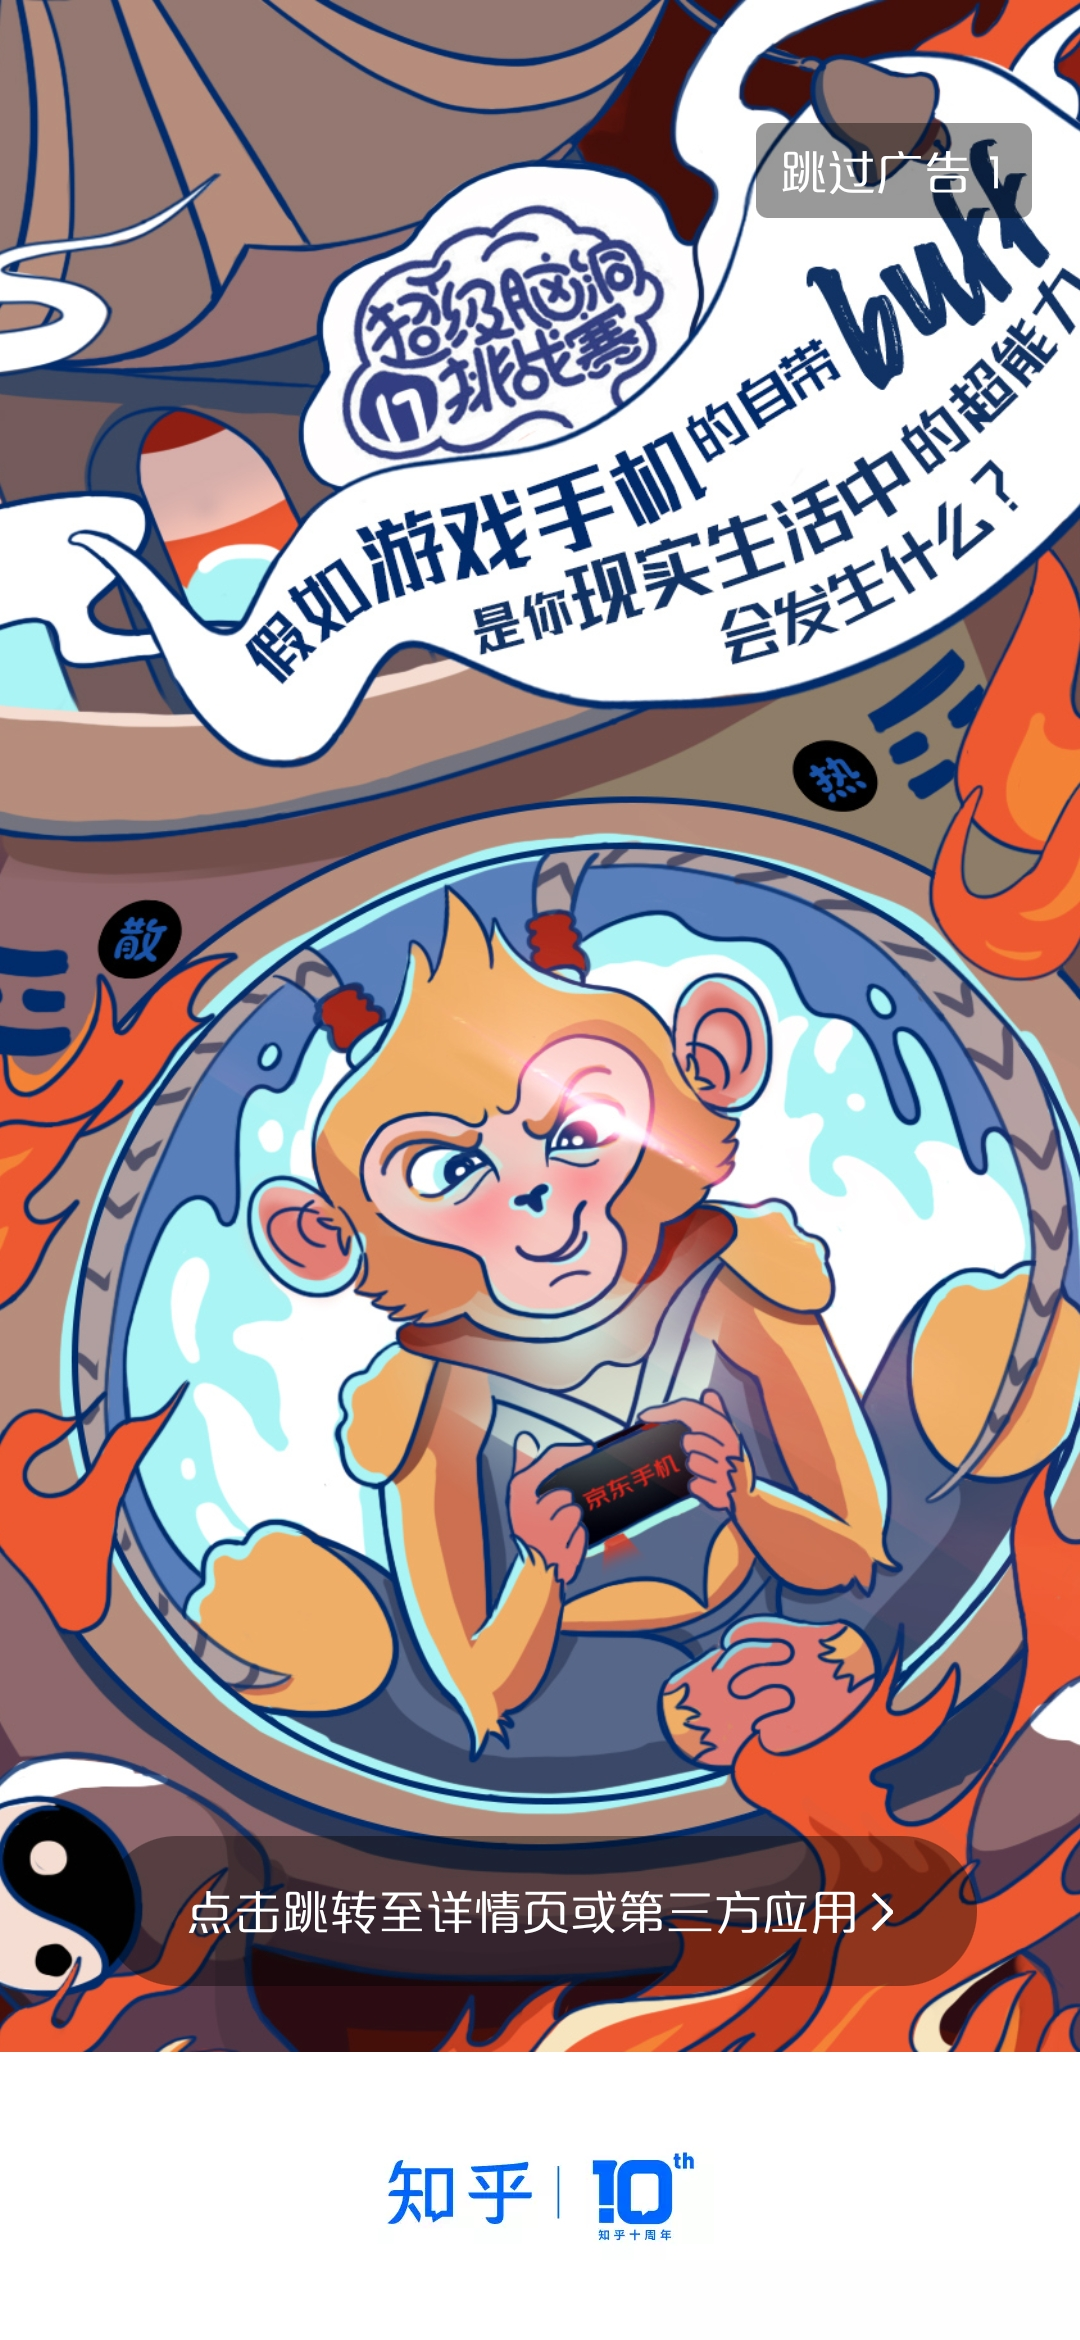skip: (762, 134, 1028, 215)
